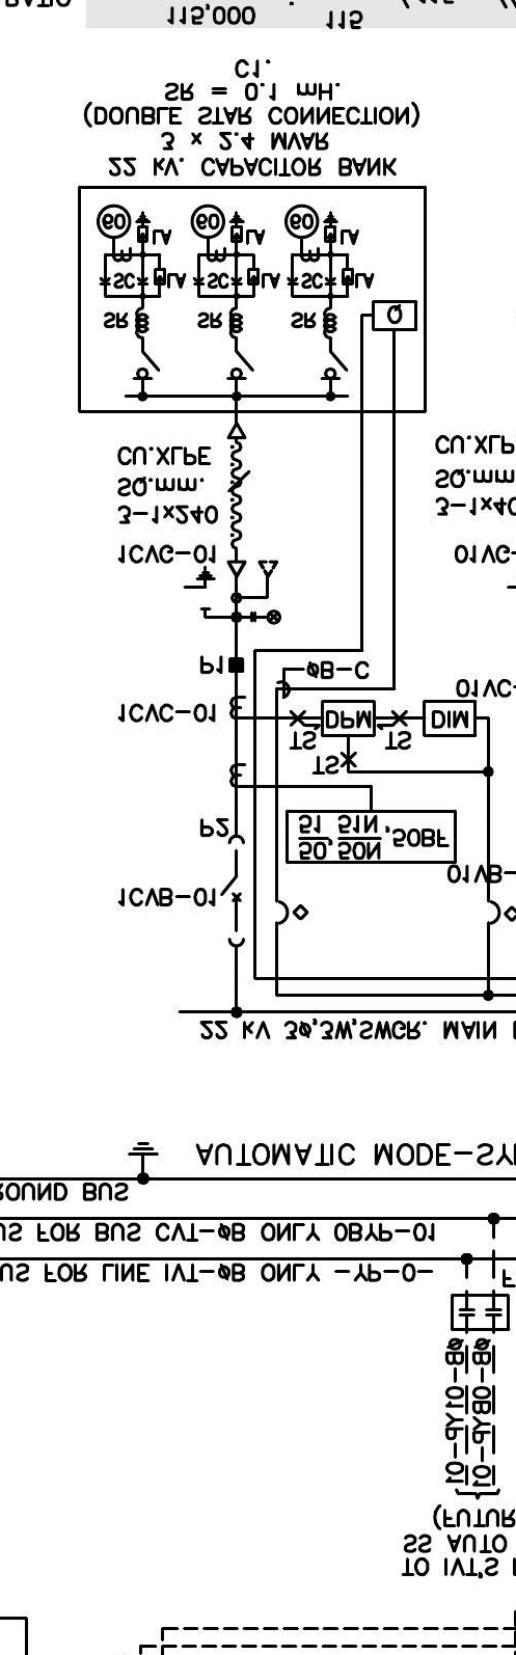22_breaker: (219, 834, 246, 948)
22_cap_bank: (77, 185, 427, 415)
22_gs: (181, 565, 216, 611)
22_ll: (249, 609, 283, 626)
DIM: (421, 699, 478, 738)
DPM: (320, 699, 377, 738)
Q: (371, 299, 419, 331)
terminator_single: (226, 422, 248, 440)
terminator_w_future: (226, 559, 280, 601)
